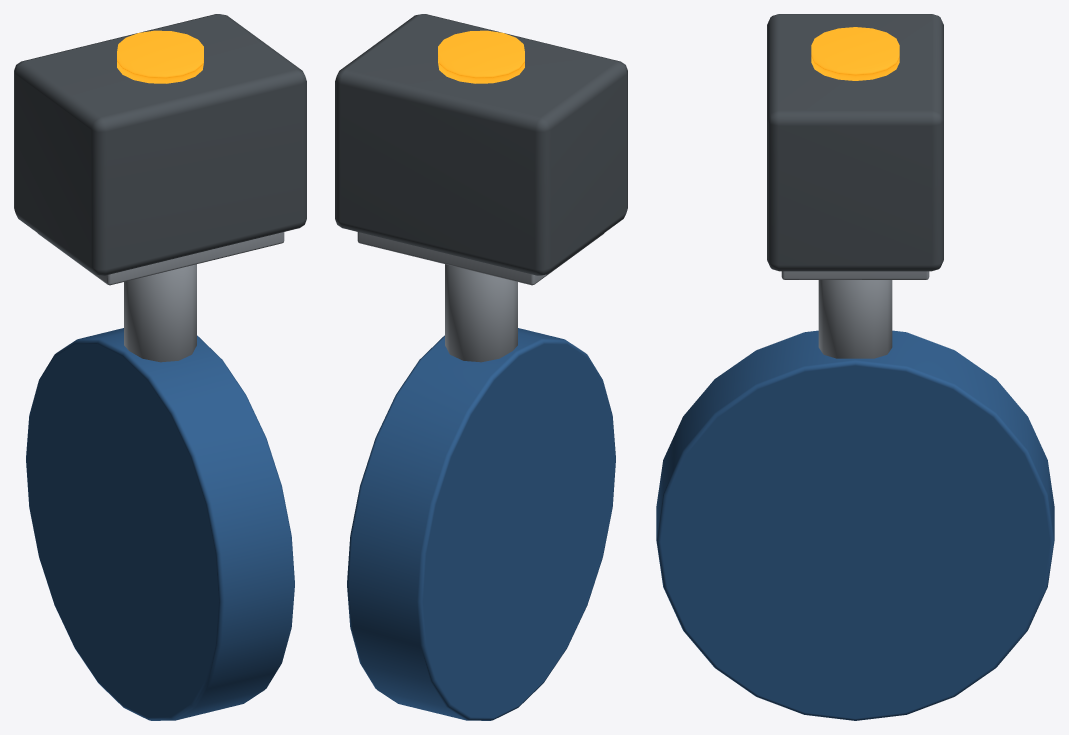
Rendered from dev_mbfv.glb.
3 renders of one model, left to right at view 1: azimuth 30°, elevation 25°; view 2: azimuth 150°, elevation 25°; view 3: azimuth 270°, elevation 25°, orthographic.
Parts seen in each view (by area): view 1: Cylinder, Cube.001, Cylinder.001, Cylinder.002, Cube; view 2: Cylinder, Cube.001, Cylinder.001, Cylinder.002, Cube; view 3: Cylinder, Cube.001, Cylinder.001, Cylinder.002, Cube.
Boxes of the visible parts, left/top/right/bottom form: Cylinder: left=26, top=328, right=294, bottom=720; Cube.001: left=14, top=14, right=306, bottom=275; Cylinder.001: left=124, top=264, right=196, bottom=362; Cylinder.002: left=117, top=30, right=203, bottom=83; Cube: left=38, top=232, right=284, bottom=285; Cylinder: left=347, top=328, right=615, bottom=720; Cube.001: left=335, top=14, right=627, bottom=275; Cylinder.001: left=445, top=264, right=517, bottom=362; Cylinder.002: left=438, top=30, right=524, bottom=83; Cube: left=357, top=232, right=603, bottom=285; Cylinder: left=656, top=330, right=1054, bottom=720; Cube.001: left=767, top=14, right=943, bottom=271; Cylinder.001: left=818, top=280, right=892, bottom=358; Cylinder.002: left=811, top=27, right=899, bottom=80; Cube: left=781, top=271, right=929, bottom=279.
Bounding box in the file's own units: 0.17 × 0.4925 × 0.27.
